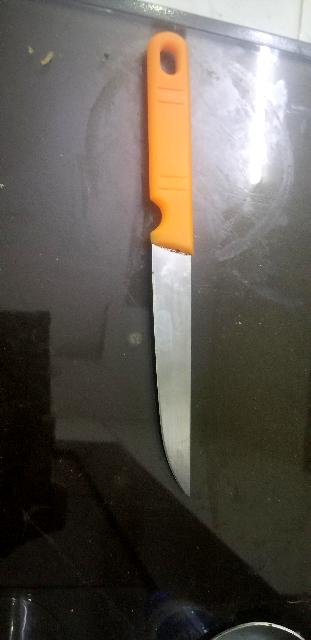long knife: (126, 37, 224, 510)
